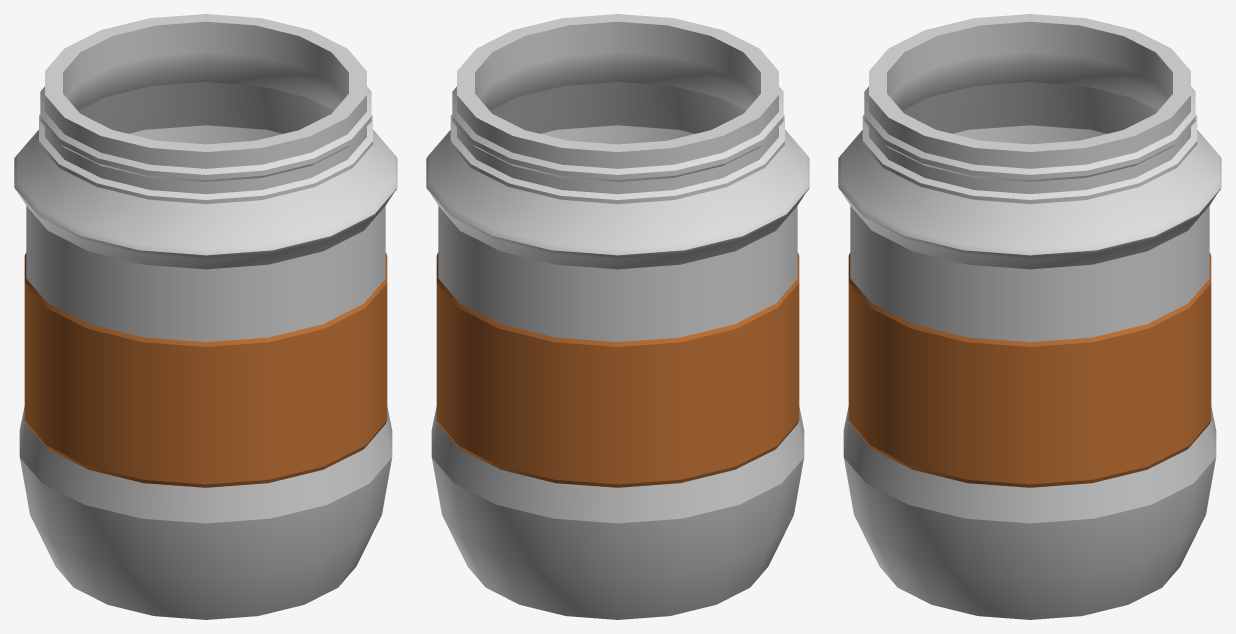
File: jarMatIdUnwr.fbx
3 renders of one model, left to right at view 1: azimuth 30°, elevation 25°; view 2: azimuth 150°, elevation 25°; view 3: azimuth 270°, elevation 25°, orthographic.
Parts seen in each view (by area): view 1: Cylinder001; view 2: Cylinder001; view 3: Cylinder001.
Boxes of the visible parts, x1,y1,x2,y2 form: Cylinder001: (14, 14, 397, 619); Cylinder001: (426, 14, 809, 619); Cylinder001: (838, 14, 1221, 619).
Size of the model in its own units: 119 by 160 by 118.
